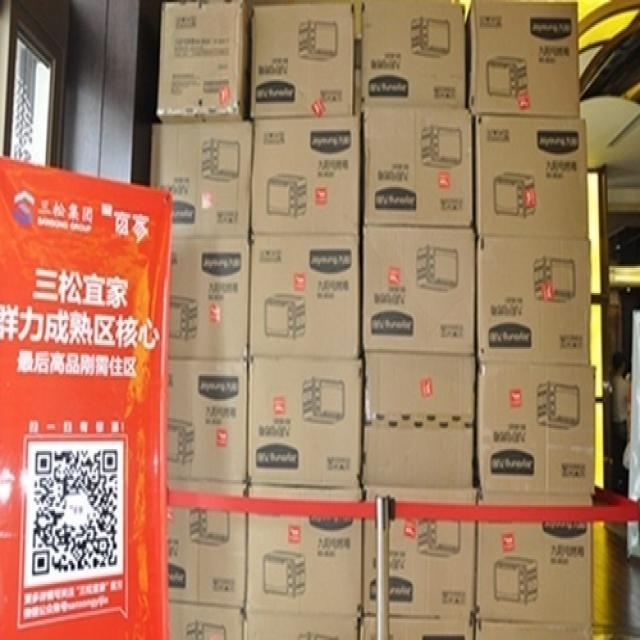box: (476, 362, 596, 495), (362, 351, 476, 486), (247, 355, 362, 488), (476, 493, 593, 623), (362, 224, 477, 355), (476, 235, 591, 364), (474, 112, 589, 237), (250, 235, 360, 360), (466, 0, 580, 120), (364, 108, 475, 227), (251, 118, 361, 235), (246, 513, 364, 617), (150, 121, 252, 237), (251, 6, 353, 121), (156, 0, 251, 123), (361, 0, 466, 110), (169, 239, 252, 362), (168, 357, 248, 484), (389, 520, 477, 621), (168, 505, 247, 611), (244, 611, 360, 640), (169, 603, 243, 640), (475, 621, 593, 640), (389, 617, 477, 640), (364, 517, 378, 615), (360, 613, 378, 640)
